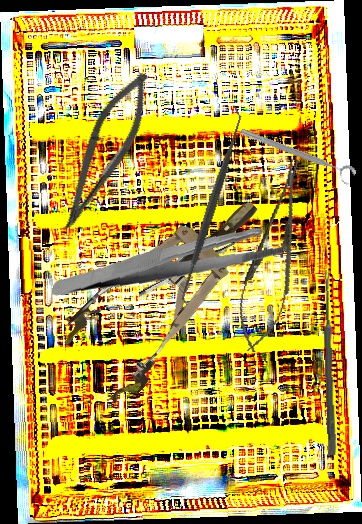Dressing Forceps: (52, 217, 284, 308)
Fixation Ring: (236, 124, 358, 188)
Hook Surgical: (132, 216, 267, 299)
Micro Scissor: (52, 64, 160, 241)
Needle Holder: (228, 154, 319, 357)
Spatula Surgical: (169, 106, 254, 306)
Speculum: (51, 170, 290, 410)
Surgical Spoon: (321, 269, 338, 456)
